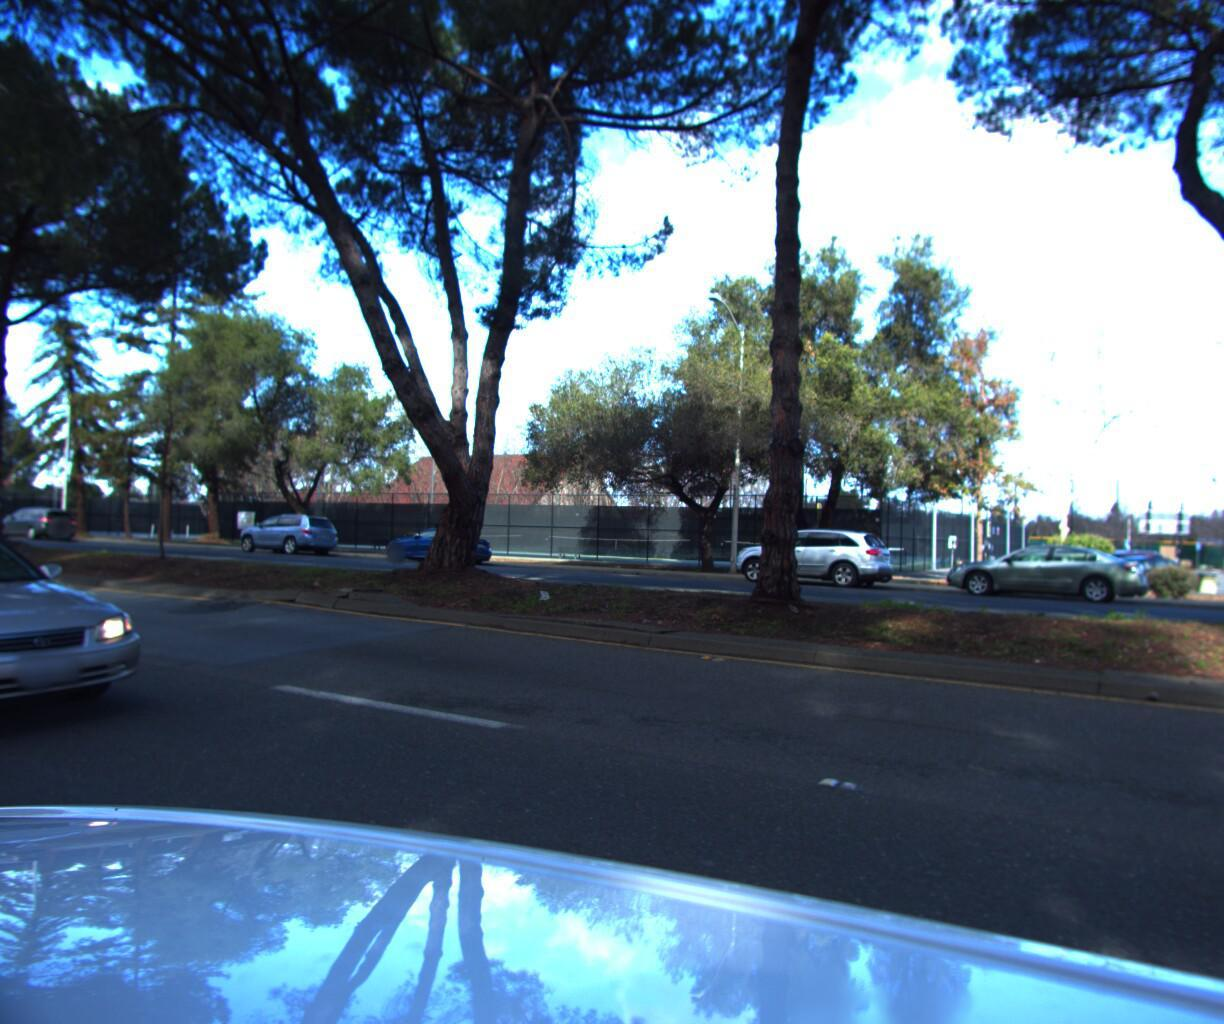car: (0, 513, 171, 783), (931, 538, 1148, 616), (716, 525, 904, 593), (371, 525, 502, 570), (227, 513, 346, 561), (0, 510, 82, 547), (0, 513, 13, 544)
